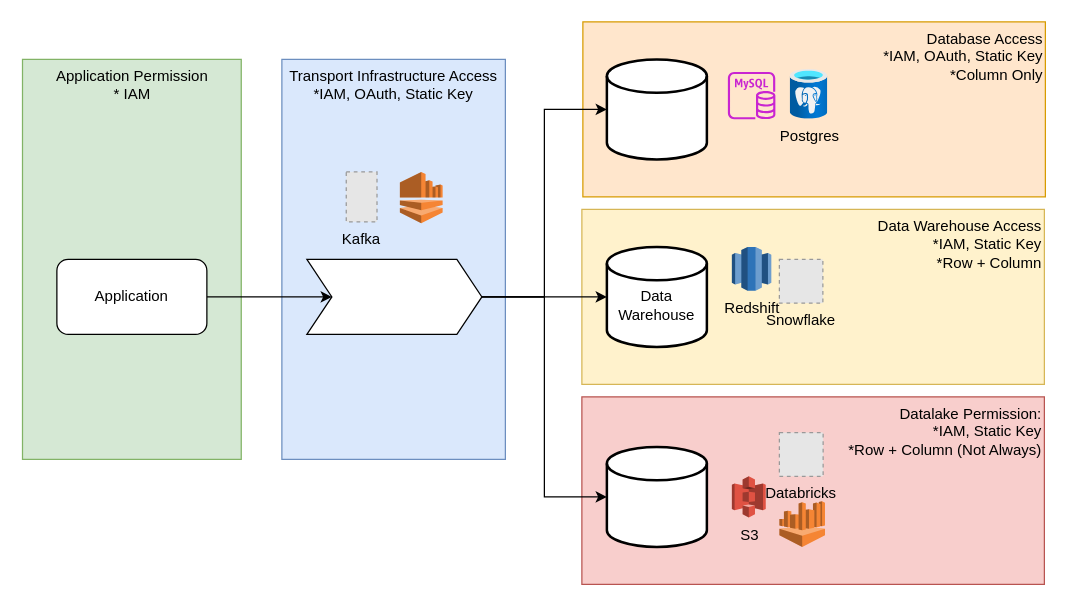
This 1068x606 diagram has some shape labels left out. Grey dashed boxes stand in for pictures. The centre of each missing label's shape, as x and y in pixels:
"Athena" belongs at pixel 801 523.
"Database" belongs at pixel 656 109.
"Datalake" belongs at pixel 656 496.
"Kinesis" belongs at pixel 421 197.
"MySQL" belongs at pixel 751 95.
"Transport" belongs at pixel 394 296.
